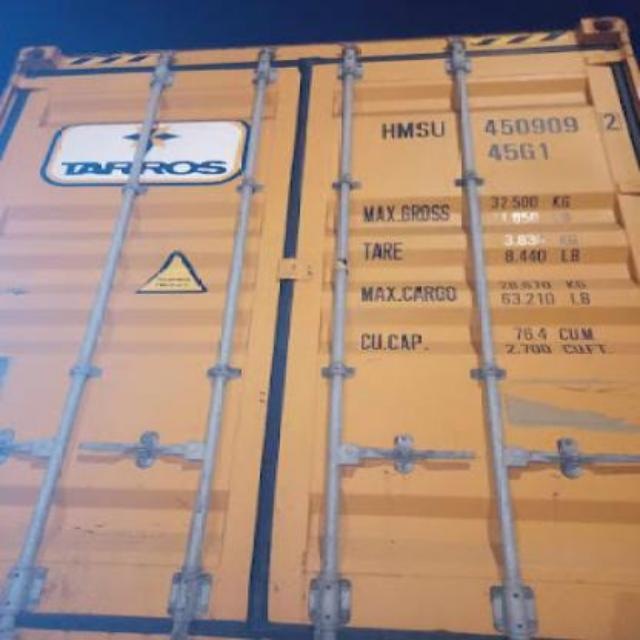0: (514, 115, 532, 136), (546, 117, 566, 133)
2: (600, 111, 622, 131)
4: (484, 119, 498, 137)
5: (498, 117, 518, 137)
9: (562, 115, 580, 135), (534, 118, 546, 138)
H: (378, 120, 398, 142)
M: (396, 120, 416, 138)
S: (416, 120, 429, 138)
U: (430, 122, 446, 138)
